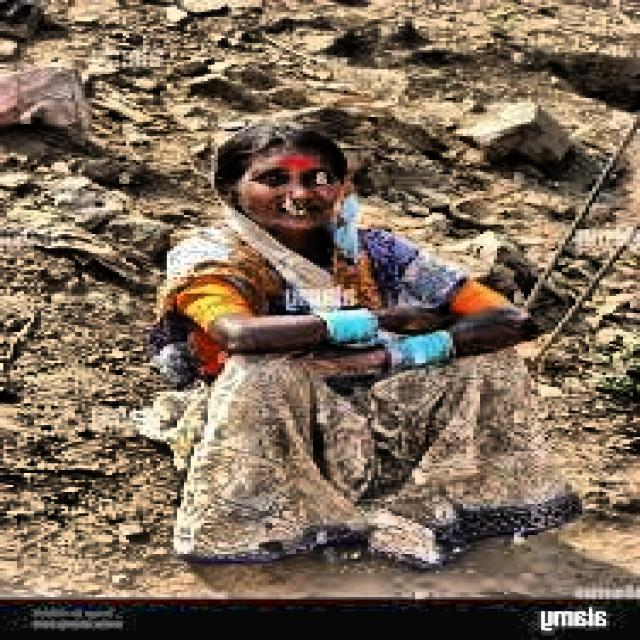Human: (129, 87, 581, 602)
